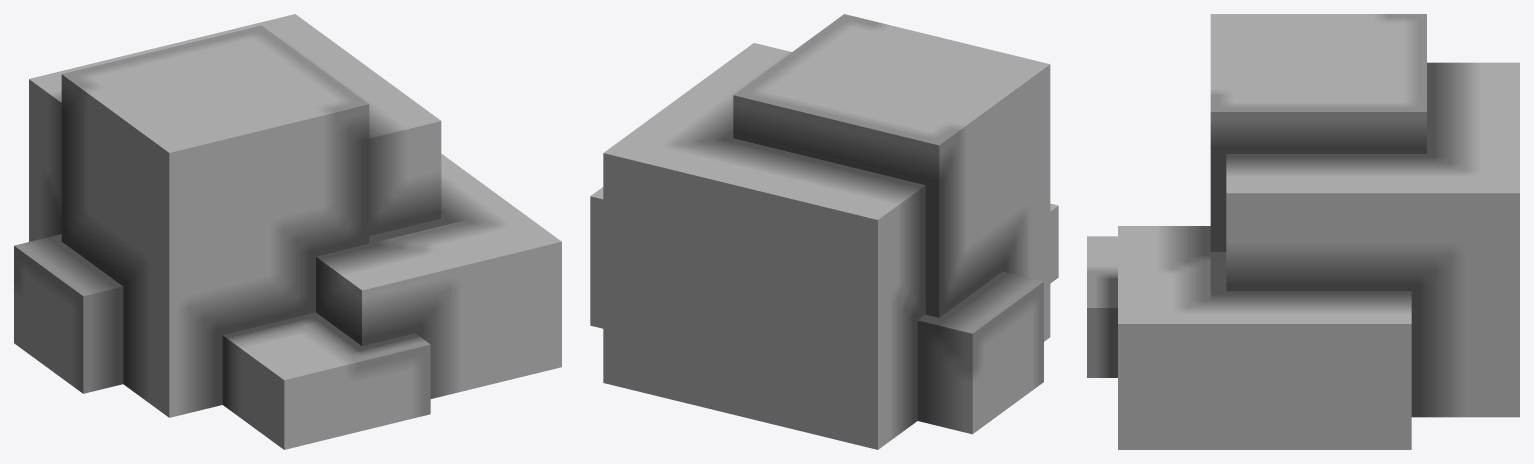
The model's file is Environment_Rock_Boulder.fbx.
3 renders of one model, left to right at view 1: azimuth 30°, elevation 25°; view 2: azimuth 150°, elevation 25°; view 3: azimuth 270°, elevation 25°, orthographic. The views are drawn at different scales.
Visible parts, largest first — view 1: Rock_Boulder; view 2: Rock_Boulder; view 3: Rock_Boulder.
Part boxes in pixels (<box>): Rock_Boulder: <box>14,14,561,449</box>; Rock_Boulder: <box>590,14,1058,449</box>; Rock_Boulder: <box>1087,14,1519,449</box>.
Size of the model in its own units: 29 by 19 by 28.
1 material, 1 textured.
